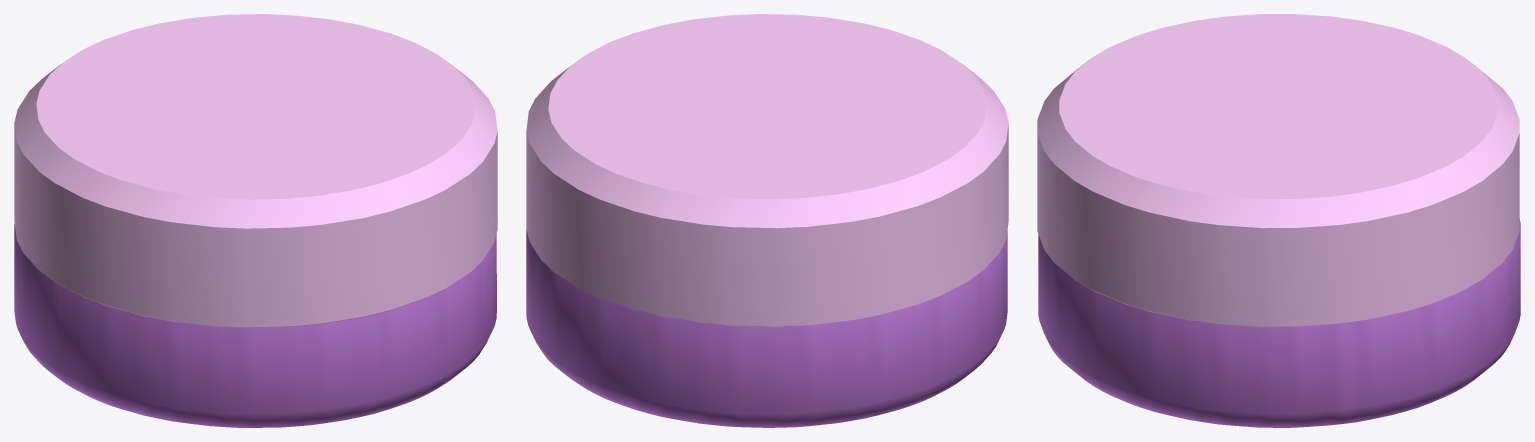
The model's file is deco.fbx.
3 renders of one model, left to right at view 1: azimuth 30°, elevation 25°; view 2: azimuth 150°, elevation 25°; view 3: azimuth 270°, elevation 25°, orthographic.
Visible parts, largest first — view 1: top, bottom; view 2: top, bottom; view 3: top, bottom.
Part boxes in pixels (box(x1,y1,x2,y2)): top: box(14, 14, 497, 327); bottom: box(14, 224, 496, 427); top: box(526, 14, 1008, 326); bottom: box(526, 229, 1007, 427); top: box(1037, 14, 1519, 327); bottom: box(1038, 219, 1520, 427).
Bounding box in the file's own units: 15.84 × 8.38 × 15.87.
Materials: 2 (2 with a texture image).
